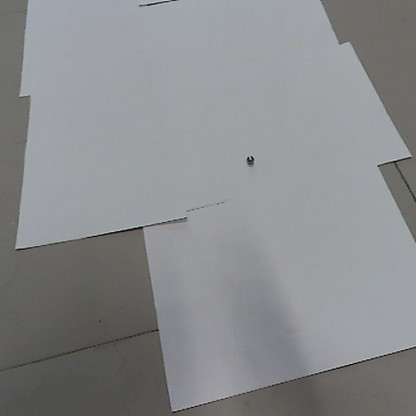ironball: (245, 153, 254, 165)
